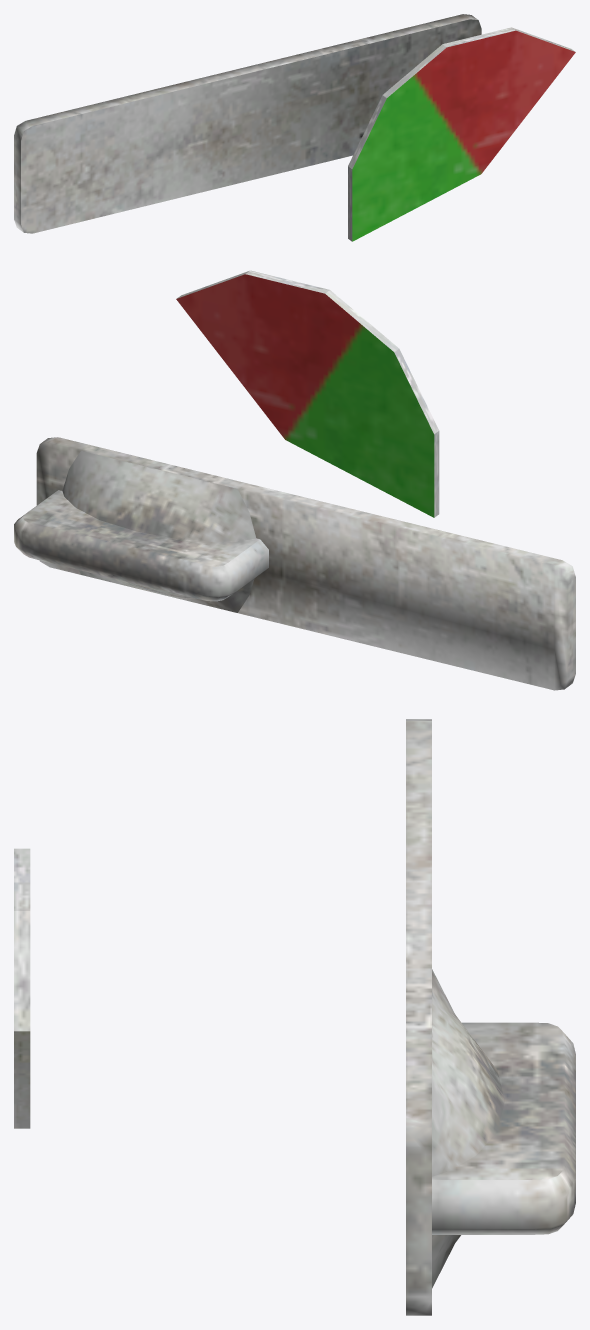
The model's file is pubToiletLocker.FBX.
3 views of the same model, one above another, from view 1: azimuth 30°, elevation 25°; view 2: azimuth 150°, elevation 25°; view 3: azimuth 270°, elevation 25° (orthographic). The views are drawn at different scales.
Visible parts, largest first — view 1: SM_Pub_Toilet_Locker; view 2: SM_Pub_Toilet_Locker; view 3: SM_Pub_Toilet_Locker.
Boxes of the visible parts, bbox=[...] form: SM_Pub_Toilet_Locker: bbox=[14, 14, 575, 241]; SM_Pub_Toilet_Locker: bbox=[14, 270, 575, 690]; SM_Pub_Toilet_Locker: bbox=[14, 719, 575, 1315].
Size of the model in its own units: 11.28 by 4.42 by 6.47.
Materials: 1 (1 with a texture image).
